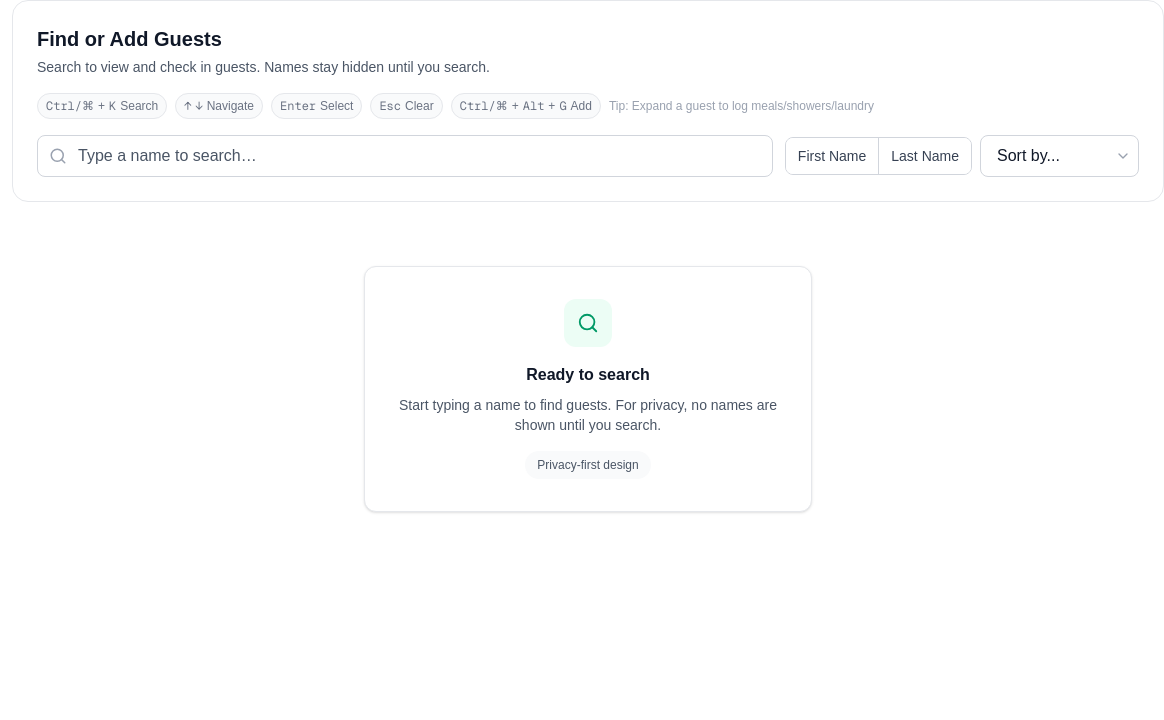
Test case: GuestList (privacy-first + shortcuts) › renders matching guests after search input
Step 1. Type "john" into the field with placeholder "Type a name to search…" → point(405, 156), box 37,135 -> 773,177
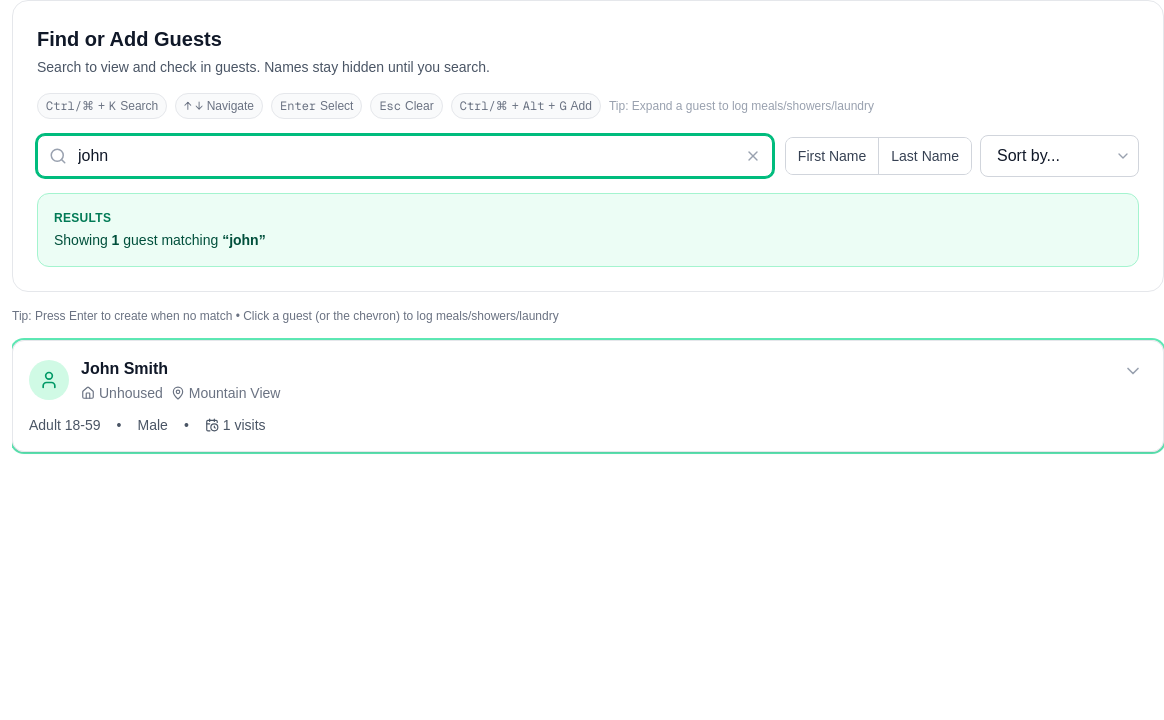
Now the heading "John Smith" is shown, box 81,360 -> 168,377
